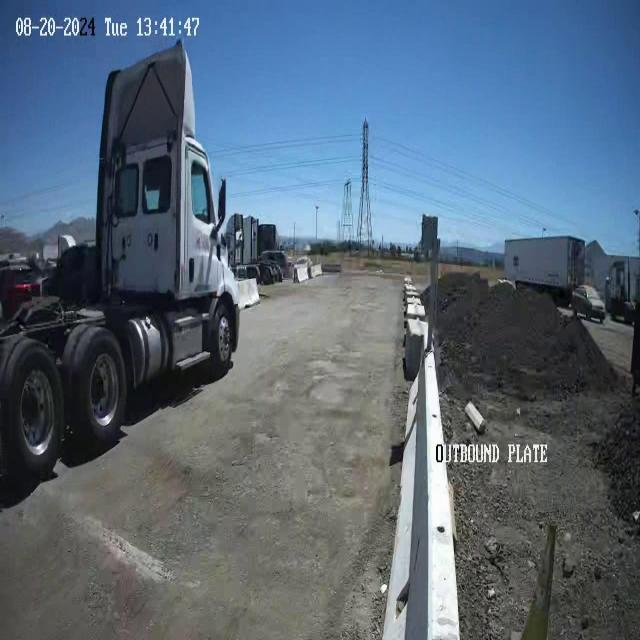BOBTAIL: (1, 38, 253, 486)
